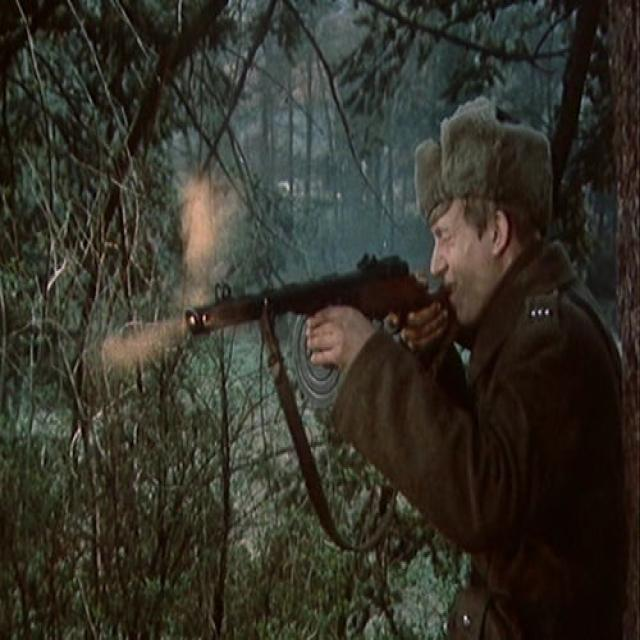rifle: (184, 251, 470, 408)
